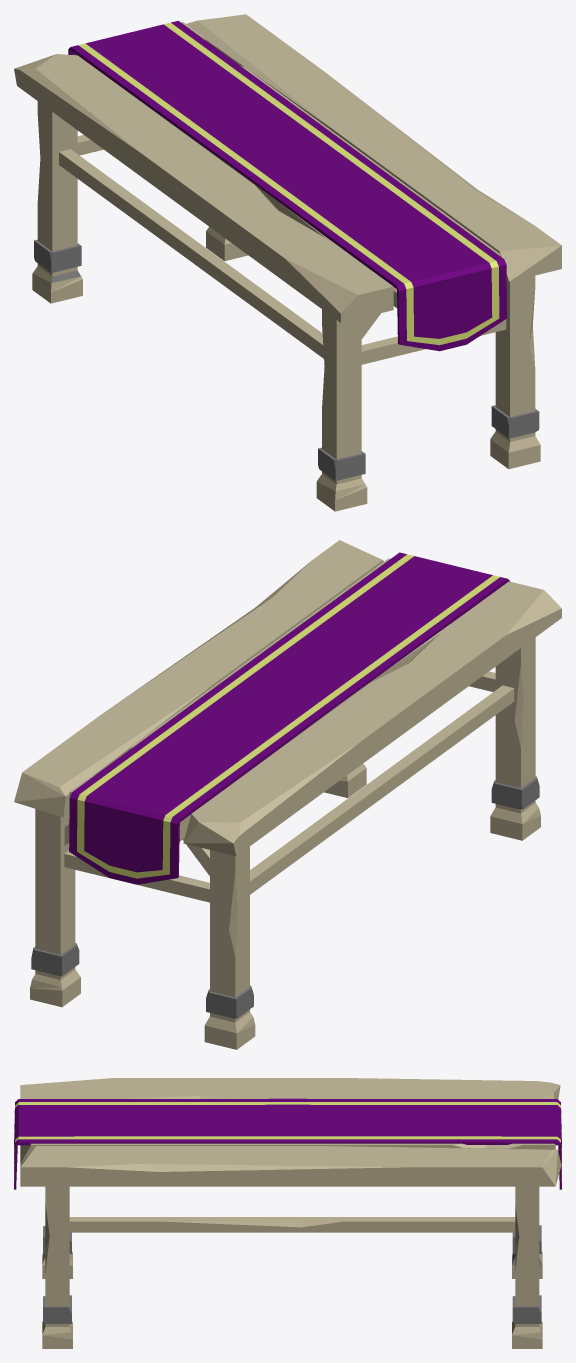
Rendered from SM_Table.fbx.
3 renders of one model, top to bottom at view 1: azimuth 30°, elevation 25°; view 2: azimuth 150°, elevation 25°; view 3: azimuth 270°, elevation 25°, orthographic. The views are drawn at different scales.
Visible parts, largest first — view 1: pCube10; view 2: pCube10; view 3: pCube10.
Boxes of the visible parts, x1,y1,x2,y2 form: pCube10: [14, 14, 561, 511]; pCube10: [14, 540, 561, 1049]; pCube10: [14, 1078, 561, 1348].
Bounding box in the file's own units: 1.97 × 1.92 × 5.11.
